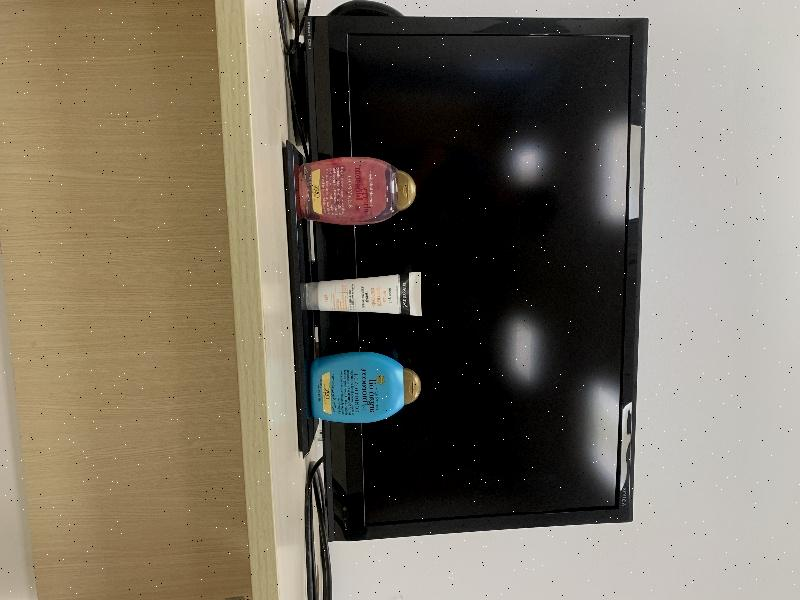AcneFoamingCleanser: (306, 272, 422, 316)
ArganOilOfMorocco_Conditioner: (310, 352, 421, 423)
CherryBlossom_Shampoo: (299, 157, 416, 225)
